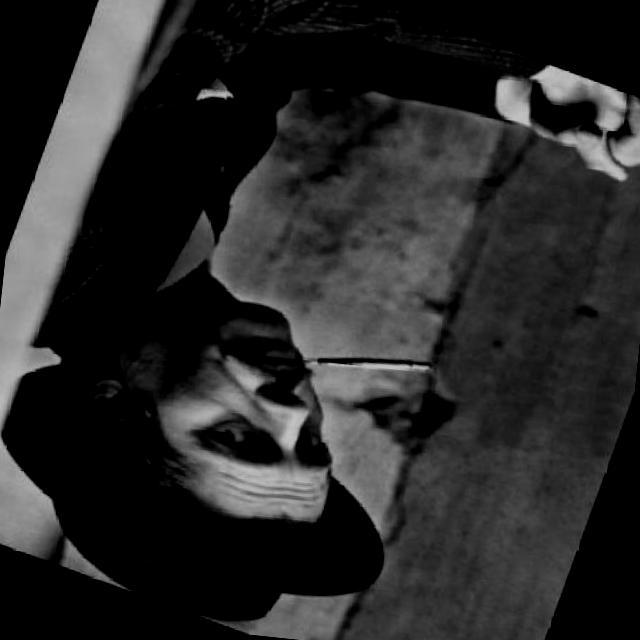cigarette: (286, 312, 438, 409)
